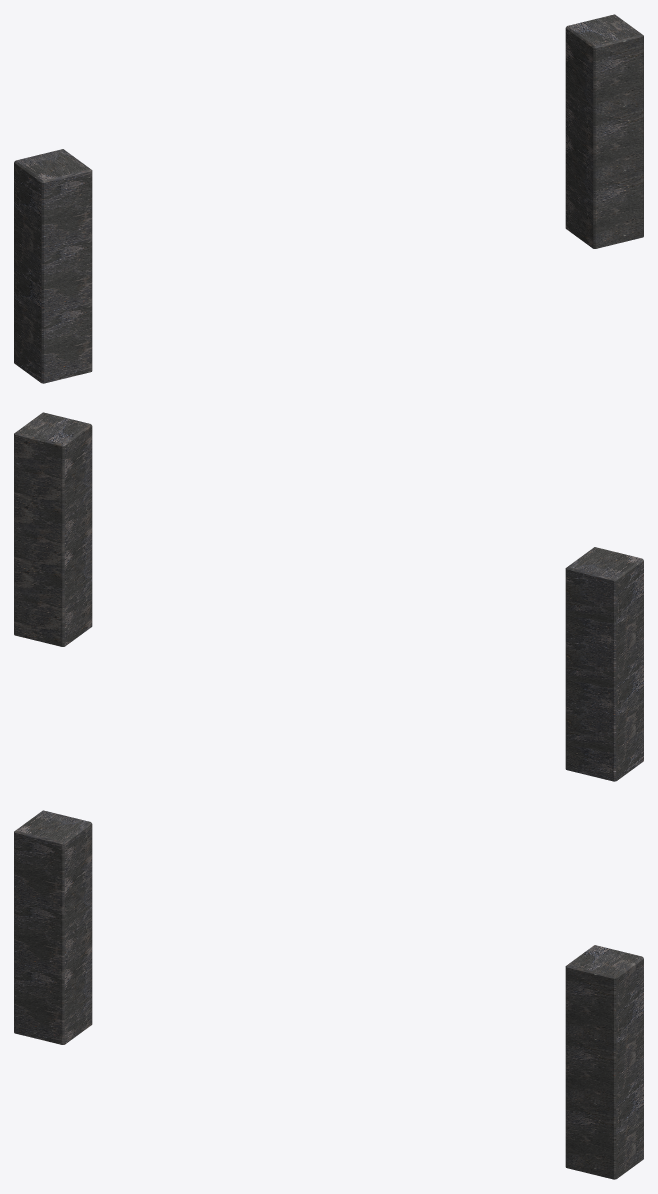
Rendered from PilastriCancello.fbx.
The picture shows the model from 3 angles, top to bottom: view 1: azimuth 30°, elevation 25°; view 2: azimuth 150°, elevation 25°; view 3: azimuth 330°, elevation 25°; orthographic projection.
Parts seen in each view (by area): view 1: PilastriCancello; view 2: PilastriCancello; view 3: PilastriCancello.
Part boxes in pixels (x1,y1,x2,y2): PilastriCancello: [14, 14, 643, 383]; PilastriCancello: [14, 412, 643, 781]; PilastriCancello: [14, 810, 643, 1179].
Bounding box in the file's own units: 698 × 224 × 58.86.
